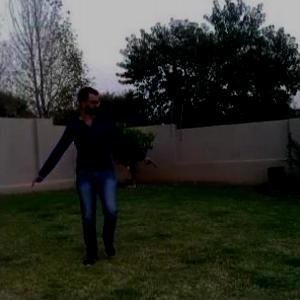land: (14, 82, 167, 284)
